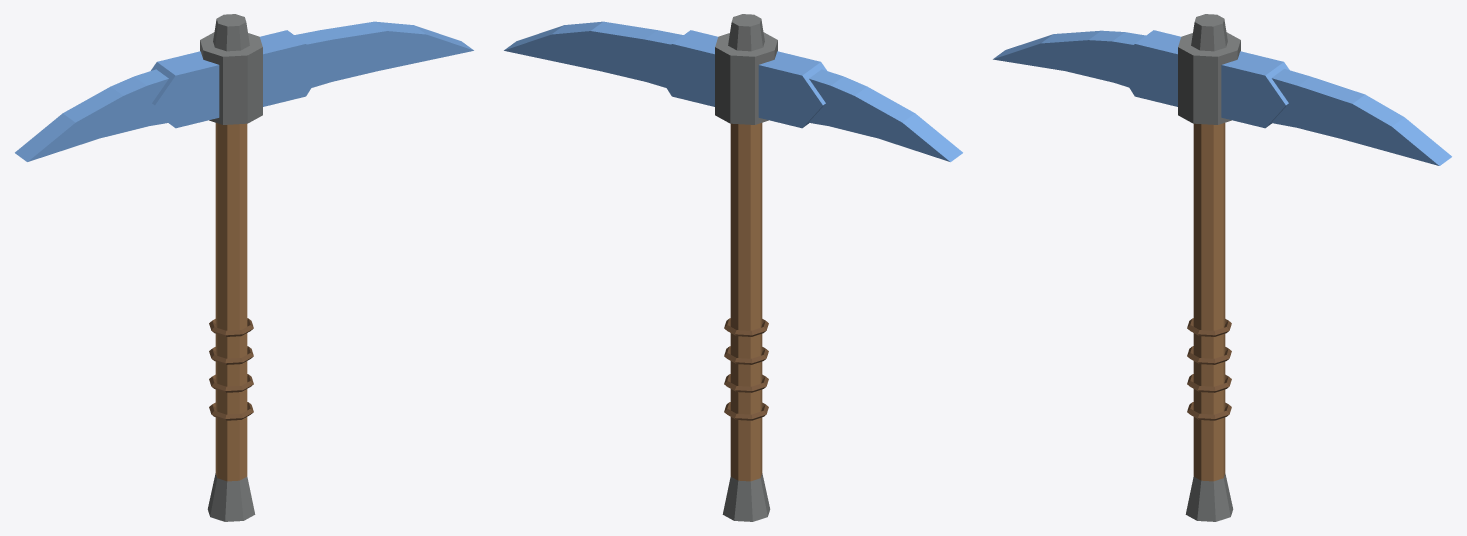
File: t4_pickaxe.glb
3 views of the same model, side by side, from view 1: azimuth 30°, elevation 25°; view 2: azimuth 150°, elevation 25°; view 3: azimuth 330°, elevation 25° (orthographic).
Parts seen in each view (by area): view 1: WoodHandle, HeadCore, RightPickHead, LeftPickHead, HeadSocket, BottomPommel, TopCap; view 2: WoodHandle, HeadCore, RightPickHead, LeftPickHead, HeadSocket, BottomPommel, TopCap; view 3: WoodHandle, RightPickHead, HeadCore, LeftPickHead, HeadSocket, BottomPommel, TopCap.
Boxes of the visible parts, left/top/right/bottom form: WoodHandle: left=215, top=123, right=247, bottom=481; HeadCore: left=151, top=30, right=326, bottom=128; RightPickHead: left=294, top=21, right=473, bottom=87; LeftPickHead: left=15, top=69, right=168, bottom=161; HeadSocket: left=200, top=32, right=262, bottom=124; BottomPommel: left=207, top=473, right=255, bottom=521; TopCap: left=213, top=14, right=249, bottom=51; WoodHandle: left=730, top=123, right=762, bottom=481; HeadCore: left=651, top=30, right=826, bottom=128; RightPickHead: left=504, top=21, right=683, bottom=87; LeftPickHead: left=809, top=69, right=962, bottom=161; HeadSocket: left=715, top=32, right=777, bottom=124; BottomPommel: left=722, top=473, right=770, bottom=521; TopCap: left=728, top=14, right=764, bottom=51; WoodHandle: left=1193, top=123, right=1225, bottom=481; RightPickHead: left=1271, top=69, right=1451, bottom=165; HeadCore: left=1114, top=30, right=1289, bottom=128; LeftPickHead: left=993, top=30, right=1145, bottom=87; HeadSocket: left=1178, top=32, right=1240, bottom=124; BottomPommel: left=1185, top=473, right=1233, bottom=521; TopCap: left=1191, top=14, right=1227, bottom=51.
Size of the model in its own units: 1.51 by 1.59 by 0.19.
